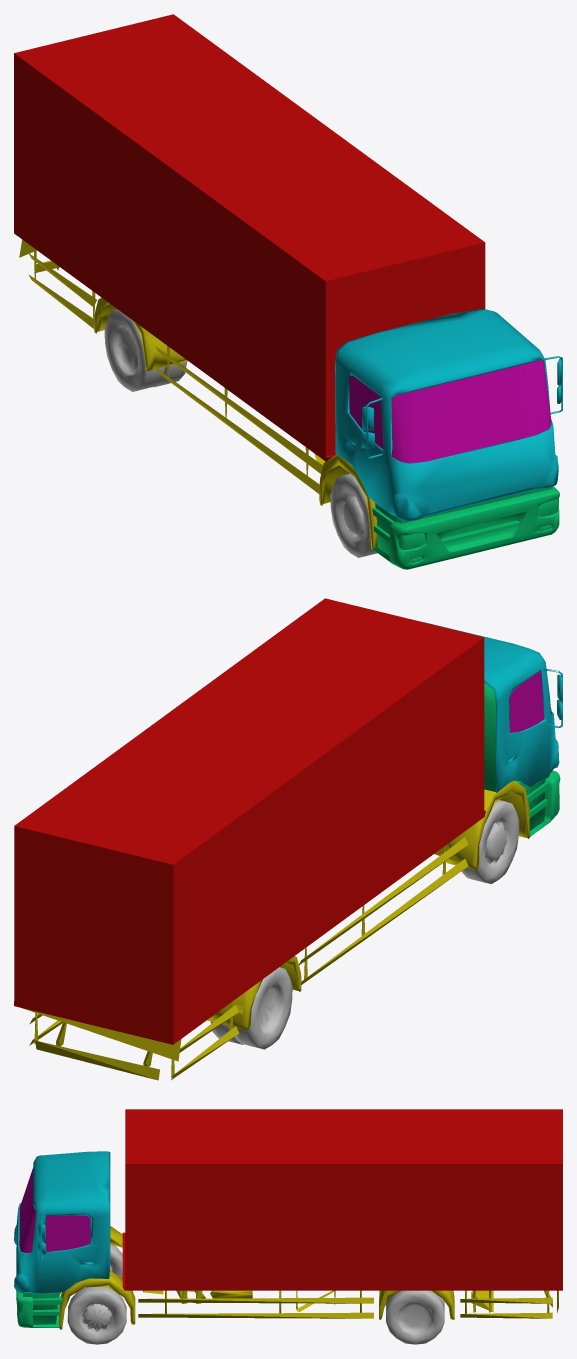
Rendered from Blue_UltraLowPolyTruck.fbx.
The picture shows the model from 3 angles, top to bottom: view 1: azimuth 30°, elevation 25°; view 2: azimuth 150°, elevation 25°; view 3: azimuth 270°, elevation 25°; orthographic projection. The views are drawn at different scales.
Visible parts, largest first — view 1: Container_Body, Front_Main_Body, Glass1, Front_Bottom_Body, W_Cover_Engines, Back_R_Wheel, Front_R_Wheel; view 2: Container_Body, W_Cover_Engines, Front_Main_Body, Back_R_Wheel, Front_Bottom_Body, Front_R_Wheel, Glass1; view 3: Container_Body, Front_Main_Body, W_Cover_Engines, Front_L_Wheel, Back_L_Wheel, Glass1, Front_Bottom_Body, Front_R_Wheel.
Part boxes in pixels (x1,y1,x2,y2): Container_Body: (14,14,485,461); Front_Main_Body: (335,308,562,520); Glass1: (349,360,551,463); Front_Bottom_Body: (372,486,559,569); W_Cover_Engines: (19,239,377,550); Back_R_Wheel: (104,309,187,391); Front_R_Wheel: (330,473,377,557); Container_Body: (14,598,485,1044); W_Cover_Engines: (22,781,529,1080); Front_Main_Body: (420,621,562,792); Back_R_Wheel: (210,967,292,1049); Front_Bottom_Body: (484,682,560,836); Front_R_Wheel: (461,800,519,884); Glass1: (509,671,551,732); Container_Body: (122,1109,562,1290); Front_Main_Body: (14,1151,110,1293); W_Cover_Engines: (59,1226,558,1329); Front_L_Wheel: (67,1287,126,1344); Back_L_Wheel: (386,1290,444,1344); Glass1: (19,1168,90,1252); Front_Bottom_Body: (16,1247,62,1327); Front_R_Wheel: (84,1244,122,1287).
Bounding box in the file's own units: 7.28 × 9.04 × 24.51.
